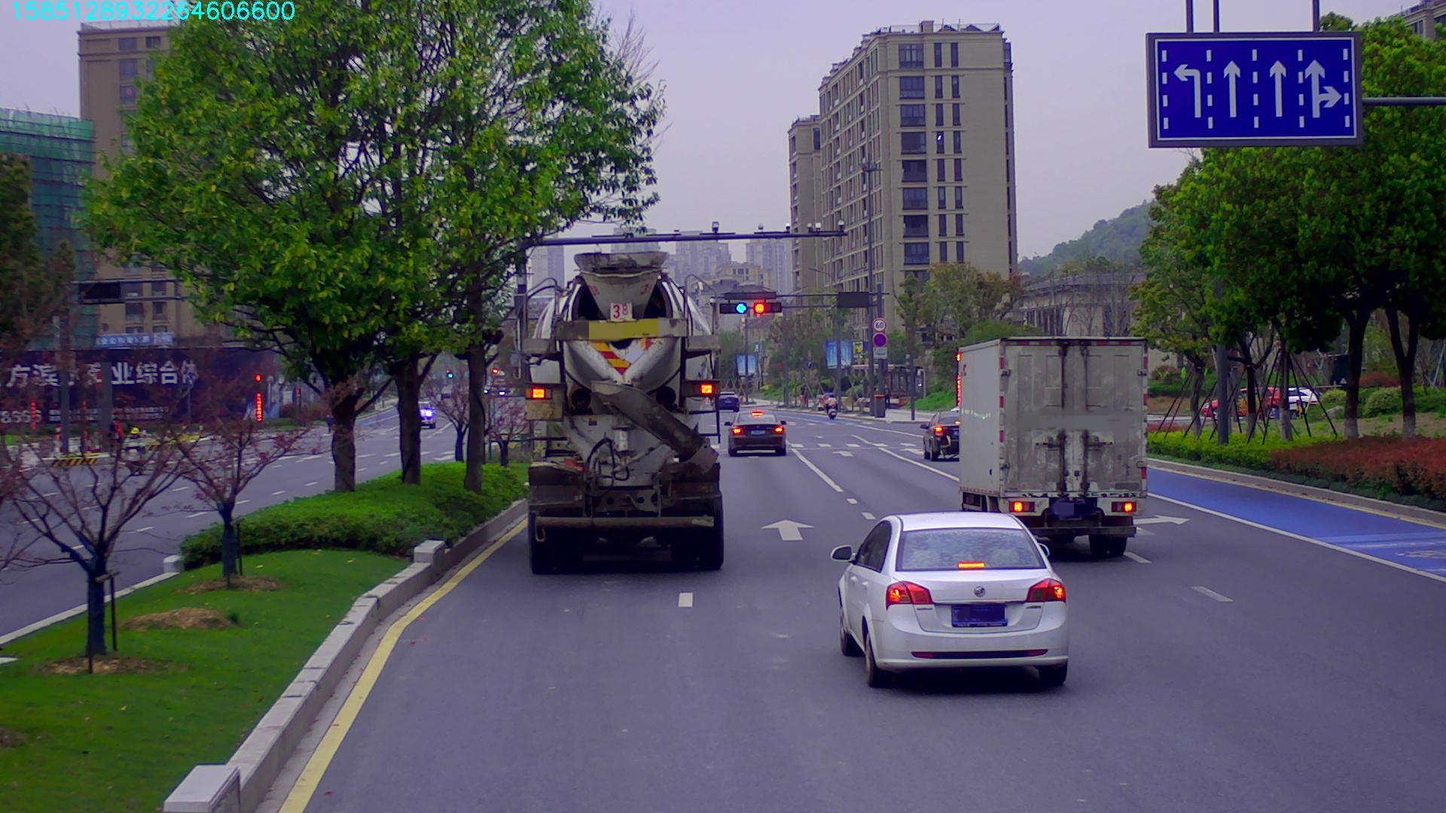green: (715, 302, 745, 311)
red: (752, 302, 786, 311)
